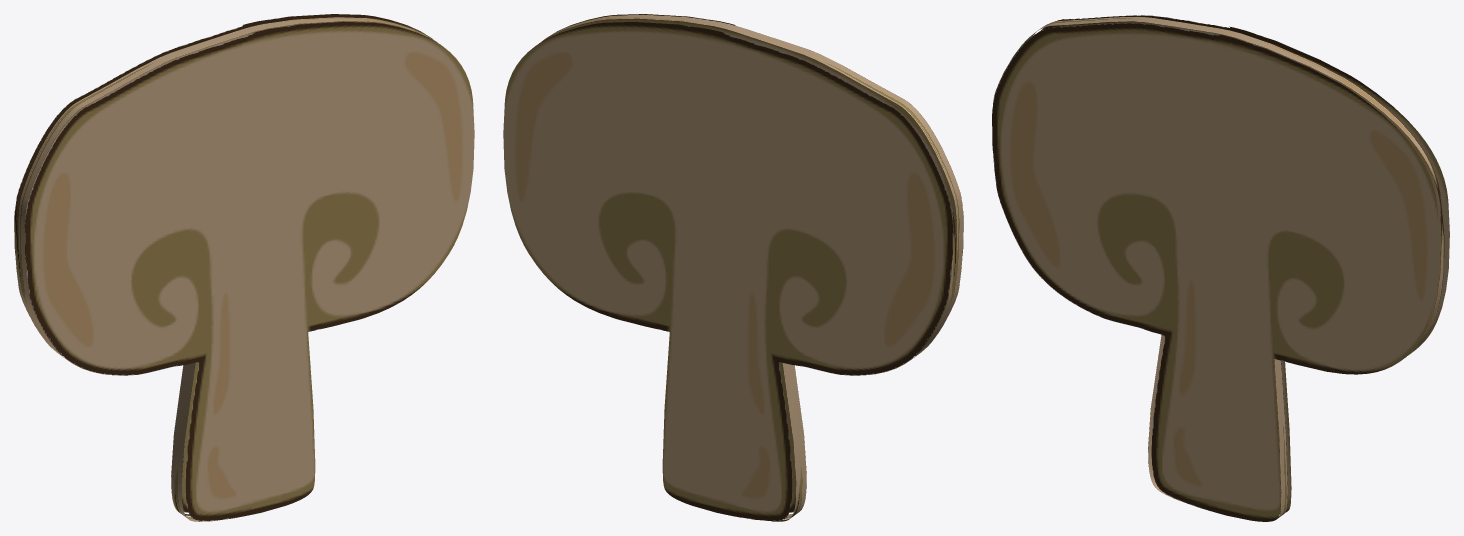
File: mushroom_sliced.fbx
The picture shows the model from 3 angles, left to right: view 1: azimuth 30°, elevation 25°; view 2: azimuth 150°, elevation 25°; view 3: azimuth 330°, elevation 25°; orthographic projection.
Visible parts, largest first — view 1: mushroom_sliced; view 2: mushroom_sliced; view 3: mushroom_sliced.
Boxes of the visible parts, bbox=[...] form: mushroom_sliced: bbox=[14, 14, 474, 521]; mushroom_sliced: bbox=[503, 14, 963, 521]; mushroom_sliced: bbox=[992, 15, 1449, 521].
Bounding box in the file's own units: 8.52 × 8.73 × 0.3528.
Materials: 1 (1 with a texture image).
